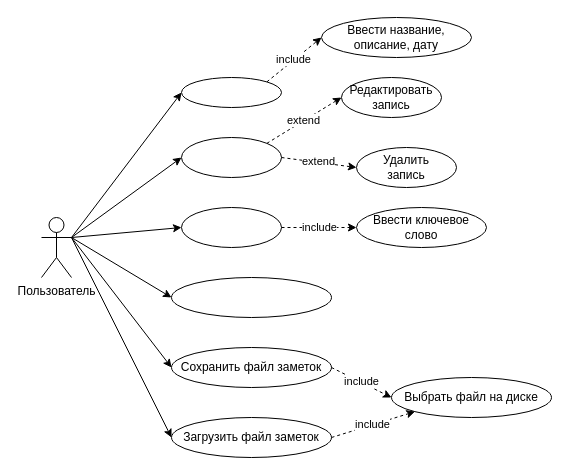
Image size: 569x475. Some labels were removed from this diagram. The centre of each missing label's shape, as x and y in pixels:
Добавить запись: the point at 231,92
Поиск (отбор) записей: the point at 231,227
Просмотр записей: the point at 231,157
Упорядочить записи по названию/дате: the point at 251,297
